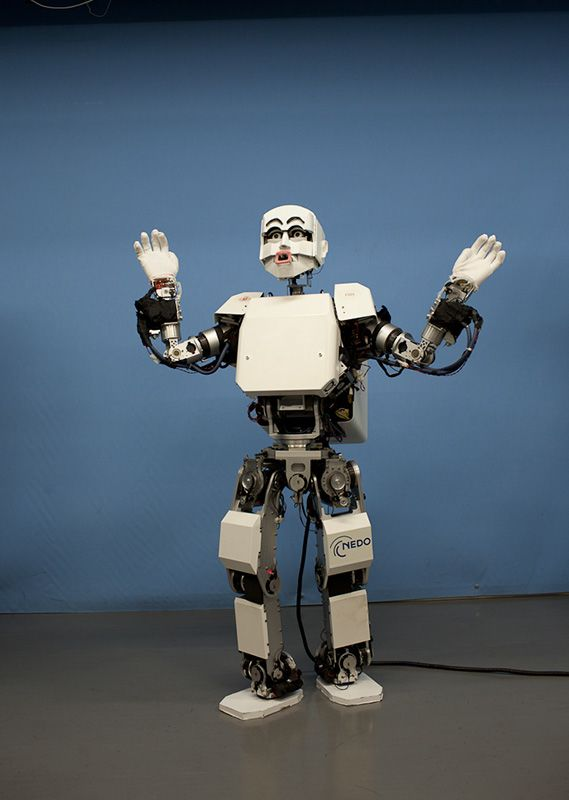person-like: (126, 192, 509, 725)
